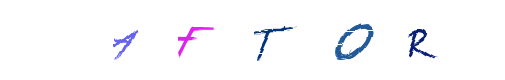0: (314, 0, 394, 80)
A: (150, 0, 230, 80)
F: (195, 0, 275, 80)
R: (315, 0, 395, 80)
T: (210, 0, 290, 80)
